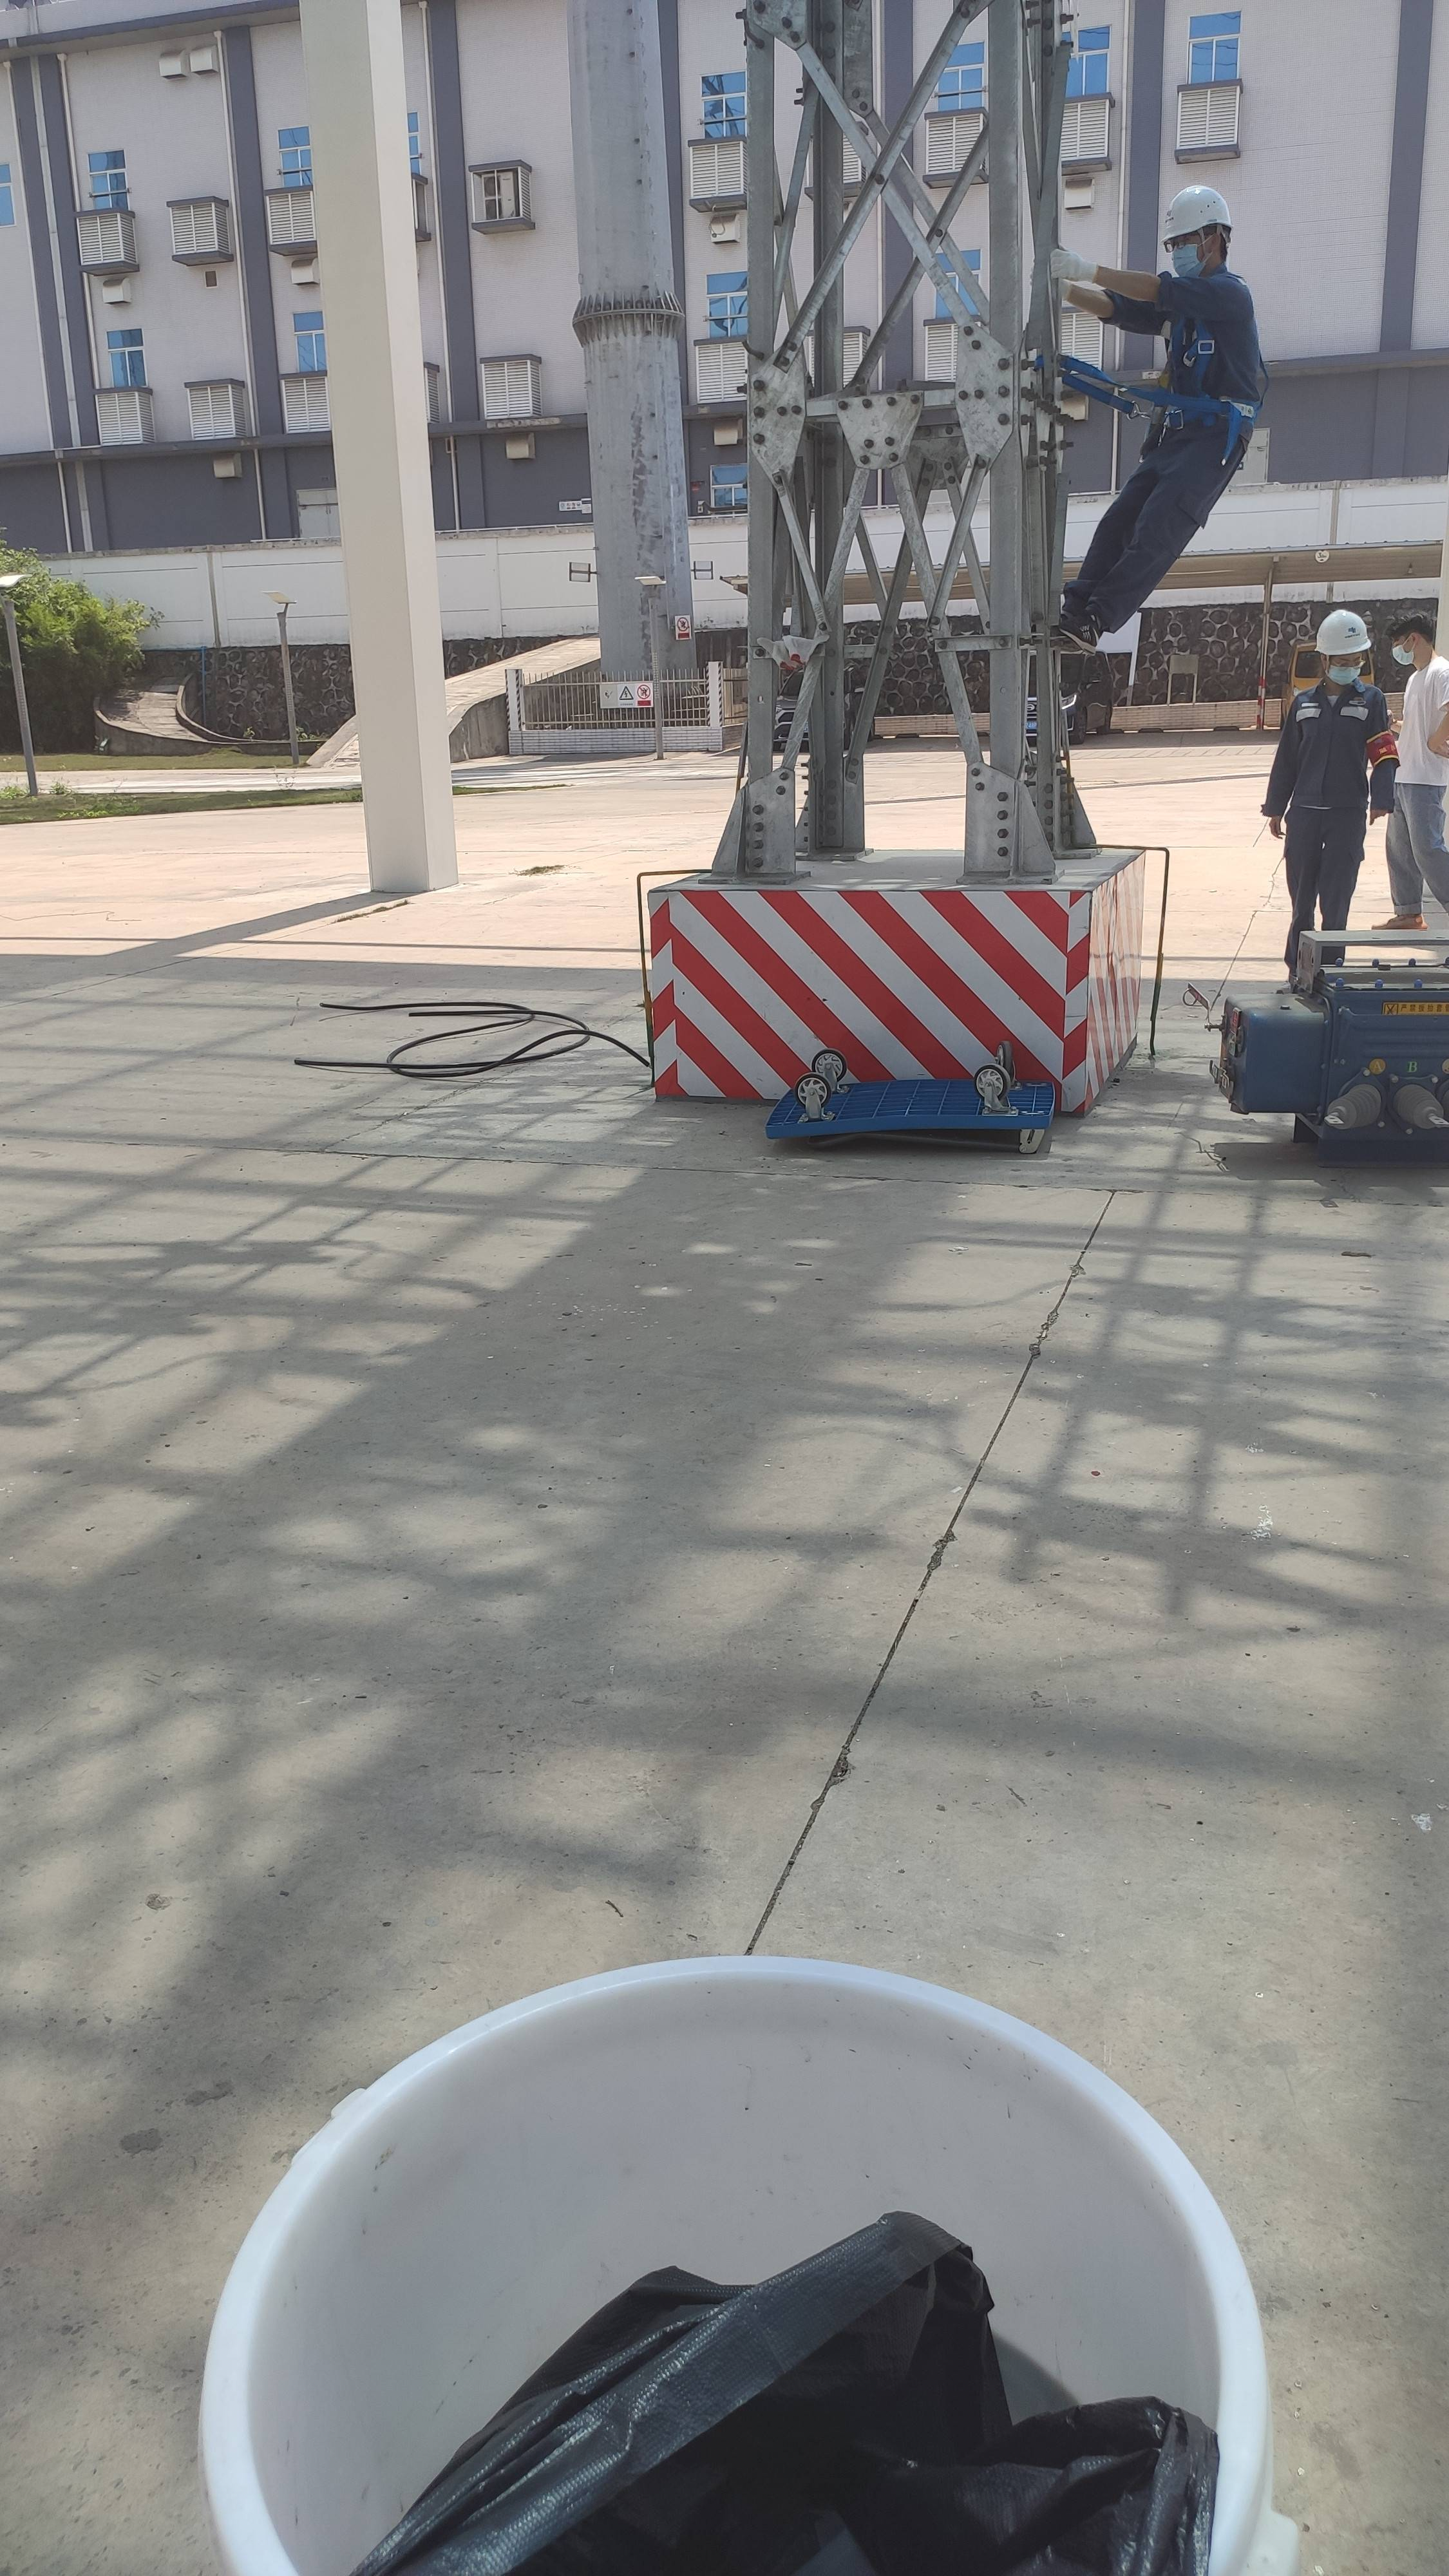downcloth: (1387, 784, 1447, 920)
downsuit: (1069, 419, 1240, 637), (1281, 828, 1364, 939)
upcloth: (1392, 665, 1447, 777)
upsuit: (1131, 269, 1267, 418), (1269, 681, 1392, 823)
wrongtop: (1067, 269, 1169, 327)
